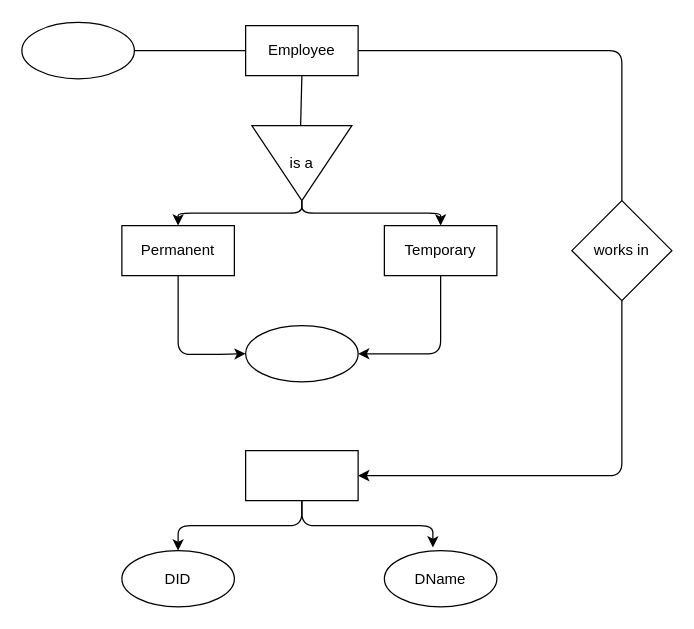
The diagram is 694 pixels wide and 629 high, and some of its shapes have lost their labels. The shapes that lost their labels are listed below. From the top down, each one's box as (x1, y1, x2, y2) in pixels, then its label:
(21, 21, 134, 79): EID
(244, 324, 358, 382): Salary
(244, 449, 358, 501): Department
